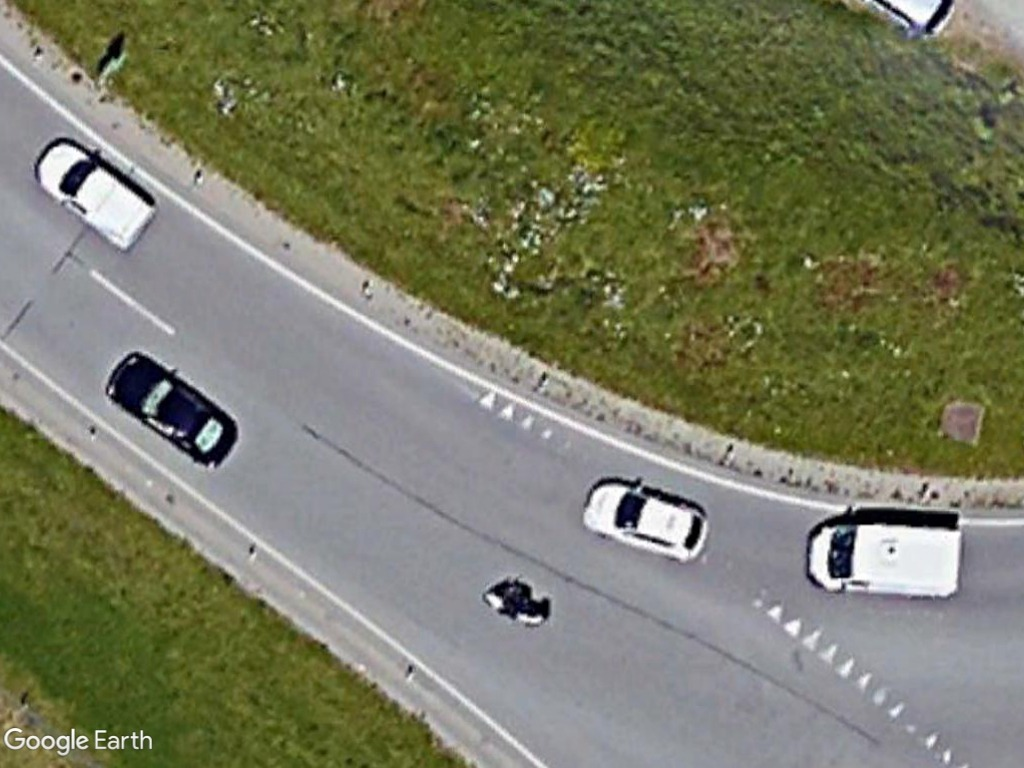car: (104, 348, 243, 472), (578, 475, 714, 566)
van: (29, 128, 160, 256), (803, 509, 970, 604)
